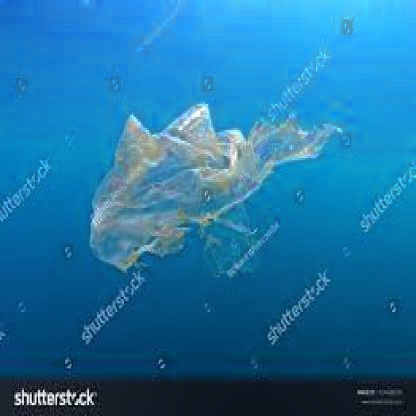pbag: (89, 100, 343, 280)
